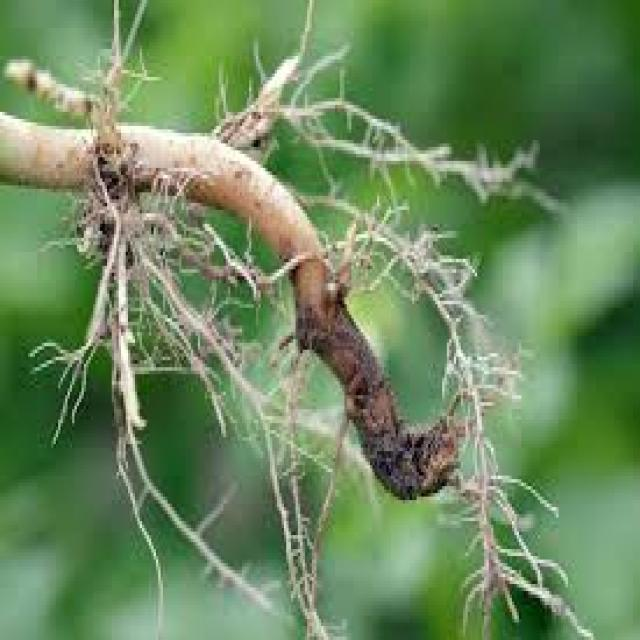root_rot: (34, 31, 574, 640)
